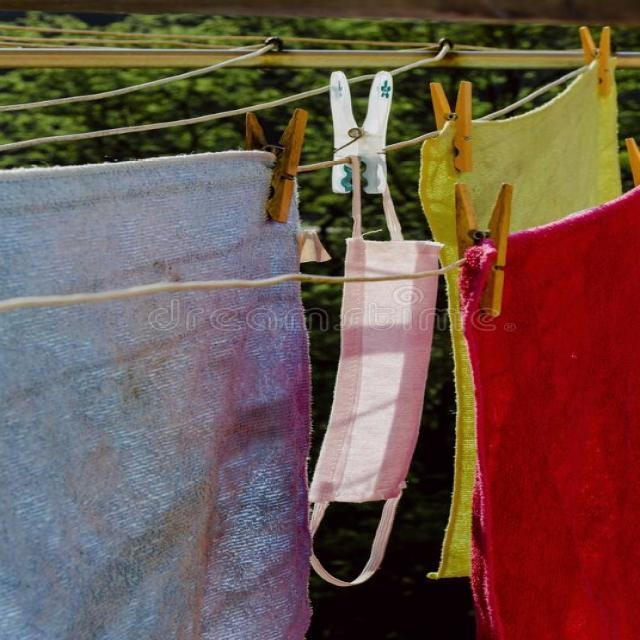clothes: (239, 347, 640, 640)
